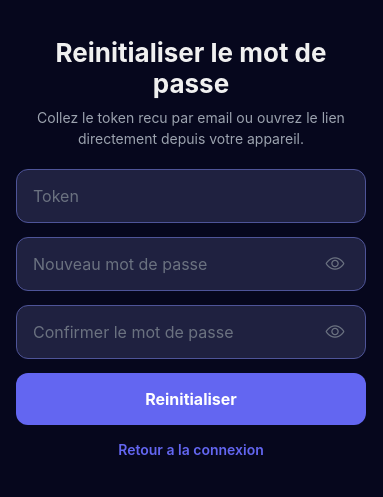
ResetPasswordScreen › shows error when token is empty
Type "Password123" into the password field with test id "reset-password-input" at (177, 264), box [33, 238, 321, 290]
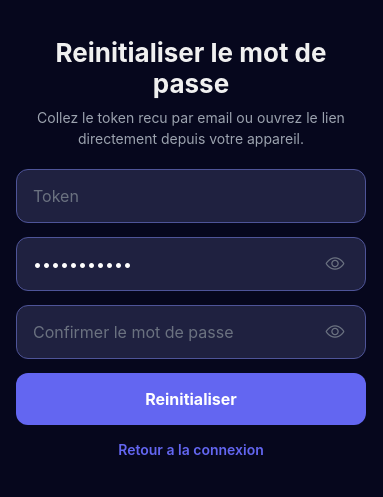
Type "Password123" into the password field with test id "reset-confirm-password-input" at (177, 332), box [33, 306, 321, 358]
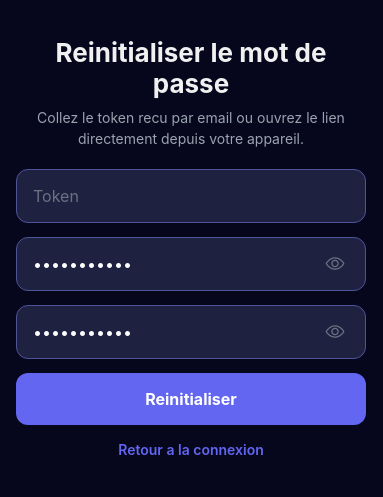
Click the element with test id "reset-submit-button" at (191, 398), box [16, 372, 366, 424]
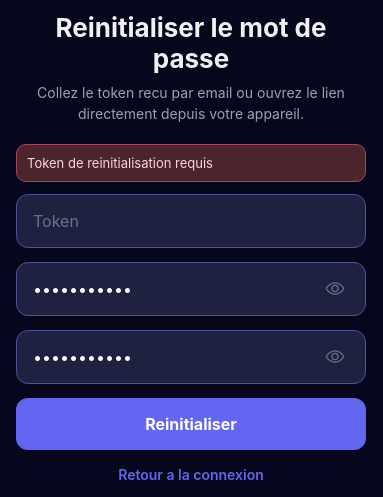
Check: the text "Token de reinitialisation requis" is shown, box [27, 154, 213, 170]
